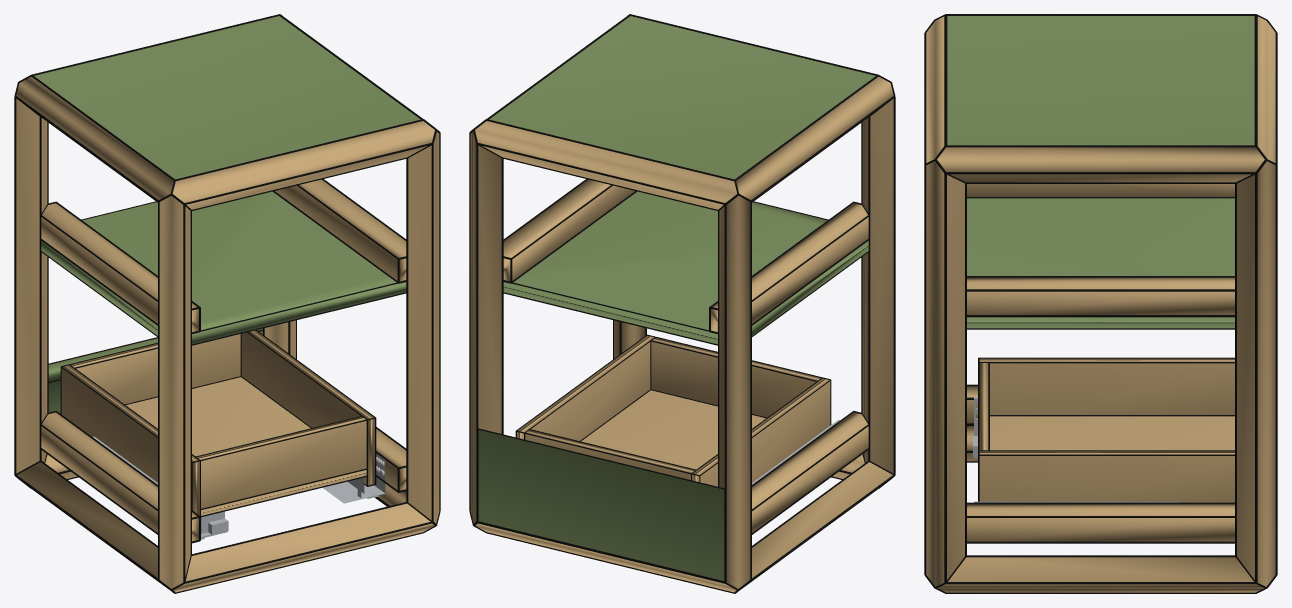
File: 002-table-chevet.glb
3 renders of one model, left to right at view 1: azimuth 30°, elevation 25°; view 2: azimuth 150°, elevation 25°; view 3: azimuth 270°, elevation 25°, orthographic. The views are drawn at different scales.
Parts seen in each view (by area): view 1: panneau-dessus_exterieur, tablette-plate-mod-0, arete-Z0, arete-Z1, arete-Z2, drawer-box-avant-mod-1, arete-X2, arete-X0, drawer-box-dessous-mod-1, drawer-box-joue_d-mod-1, drawer-box-joue_g-mod-1, drawer-tr-drawer-traverse-left-mod-1 (+25 smaller); view 2: panneau-dessus_exterieur, tablette-plate-mod-0, drawer-box-facade-mod-1, arete-Z2, arete-Z0, arete-Z3, arete-X3, drawer-box-dessous-mod-1, drawer-box-avant-mod-1, drawer-box-joue_d-mod-1, tablette-traverse-left-mod-0, drawer-tr-drawer-traverse-left-mod-1 (+22 smaller); view 3: panneau-dessus_exterieur, tablette-plate-mod-0, arete-Z1, arete-Z3, drawer-box-joue_g-mod-1, drawer-box-joue_d-mod-1, arete-Y3, arete-Y1, tablette-traverse-right-mod-0, drawer-tr-drawer-traverse-right-mod-1, drawer-box-dessous-mod-1, tablette-traverse-left-mod-0 (+17 smaller).
Boxes of the visible parts, bbox=[...] form: panneau-dessus_exterieur: bbox=[34, 16, 420, 179]; tablette-plate-mod-0: bbox=[41, 191, 406, 344]; arete-Z0: bbox=[159, 195, 190, 588]; arete-Z1: bbox=[408, 131, 439, 523]; arete-Z2: bbox=[16, 98, 47, 473]; drawer-box-avant-mod-1: bbox=[197, 417, 366, 508]; arete-X2: bbox=[172, 121, 434, 209]; arete-X0: bbox=[173, 503, 434, 592]; drawer-box-dessous-mod-1: bbox=[126, 377, 366, 515]; drawer-box-joue_d-mod-1: bbox=[241, 330, 374, 485]; drawer-box-joue_g-mod-1: bbox=[61, 365, 199, 515]; drawer-tr-drawer-traverse-left-mod-1: bbox=[41, 412, 198, 541]; panneau-dessus_exterieur: bbox=[489, 16, 875, 179]; tablette-plate-mod-0: bbox=[503, 191, 868, 344]; drawer-box-facade-mod-1: bbox=[478, 430, 724, 580]; arete-Z2: bbox=[719, 195, 750, 588]; arete-Z0: bbox=[862, 98, 893, 473]; arete-Z3: bbox=[470, 131, 501, 523]; arete-X3: bbox=[475, 121, 737, 209]; drawer-box-dessous-mod-1: bbox=[581, 390, 765, 469]; drawer-box-avant-mod-1: bbox=[651, 338, 820, 417]; drawer-box-joue_d-mod-1: bbox=[517, 335, 653, 440]; tablette-traverse-left-mod-0: bbox=[711, 203, 868, 331]; drawer-tr-drawer-traverse-left-mod-1: bbox=[752, 412, 868, 532]; panneau-dessus_exterieur: bbox=[947, 16, 1254, 145]; tablette-plate-mod-0: bbox=[967, 198, 1234, 328]; arete-Z1: bbox=[926, 161, 964, 586]; arete-Z3: bbox=[1237, 161, 1275, 586]; drawer-box-joue_g-mod-1: bbox=[979, 358, 1234, 414]; drawer-box-joue_d-mod-1: bbox=[979, 451, 1234, 502]; arete-Y3: bbox=[937, 147, 1264, 182]; arete-Y1: bbox=[937, 557, 1264, 592]; tablette-traverse-right-mod-0: bbox=[967, 277, 1234, 314]; drawer-tr-drawer-traverse-right-mod-1: bbox=[967, 504, 1234, 541]; drawer-box-dessous-mod-1: bbox=[990, 416, 1234, 450]; tablette-traverse-left-mod-0: bbox=[967, 184, 1234, 196].
Size of the model in its own units: 0.3738 by 0.5238 by 0.3738.
